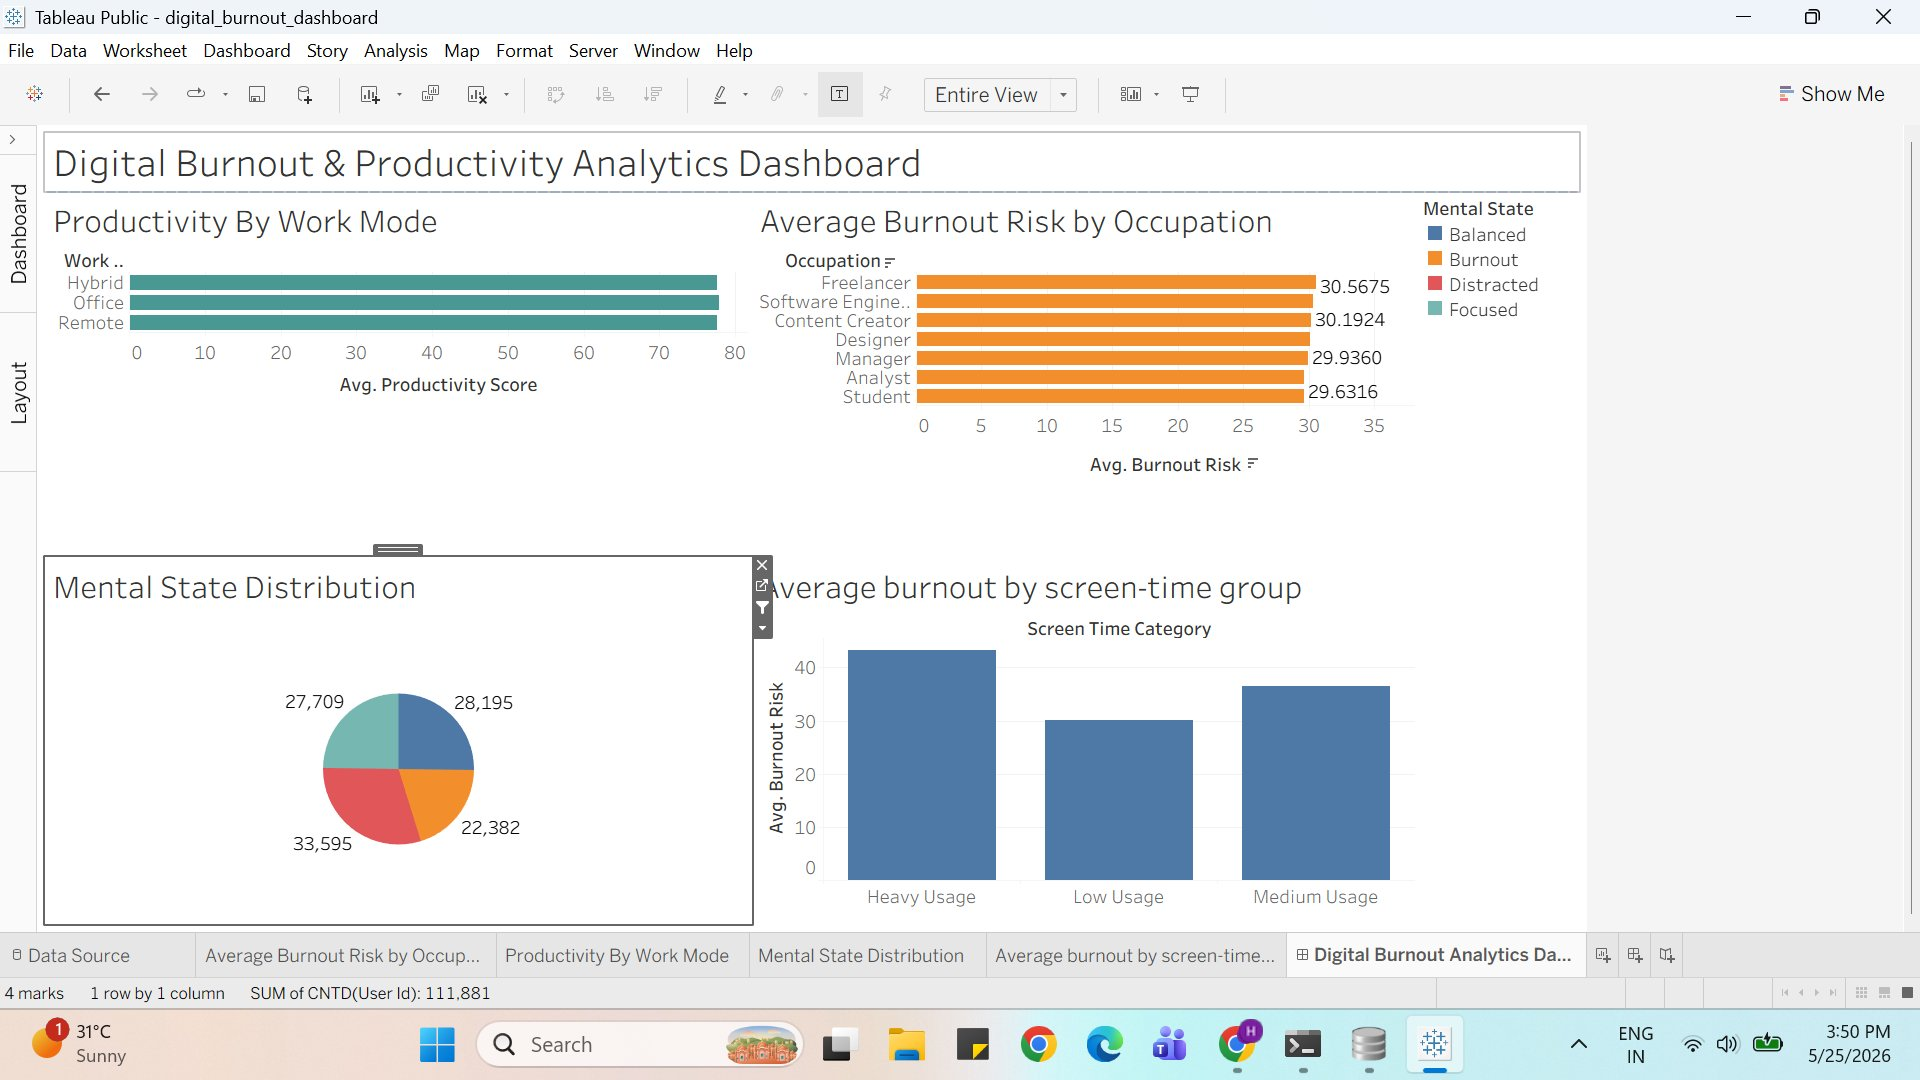

Layout of this report page (visuals, bound fields, positions):
{"tool":"tableau","page":{"name":"Digital Burnout Analytics Dashboard","canvas":[1000,1000],"units":"permille","ordinal":0},"visuals":[{"type":"title","box":[5.2,9.9,886.5,71.9]},{"type":"legend","title":"Mental State Distribution","param":"[federated.0yhz3xa09osp6c140vxkk1f0od8s].[none:mental_state:nk]","box":[891.6,9.9,103.2,166]},{"type":"worksheet","title":"Productivity By Work Mode","mark":"Automatic","rows":["work_mode"],"cols":["productivity_score"],"box":[5.2,81.8,456,454.1]},{"type":"worksheet","title":"Average Burnout Risk by Occupation","mark":"Automatic","rows":["occupation"],"cols":["burnout_risk"],"box":[461.2,81.8,430.4,454.1]},{"type":"worksheet","title":"Mental State Distribution","mark":"Pie","box":[5.2,535.9,456,454.2]},{"type":"worksheet","title":"Average burnout by screen-time group","mark":"Automatic","rows":["burnout_risk"],"cols":["screen_time_category"],"box":[461.2,535.9,430.4,454.2]}]}

Visuals, with their boxes on the dashboard's canvas, which has no fixed pixel size, in thousandths of its width and height (x1, y1, x2, y2). These are canvas units, not pixel positions in the 1920x1080 screenshot, which may show the page scaled, cropped or inside an application window:
title: x1=5 y1=10 x2=892 y2=82
"Mental State Distribution" legend: x1=892 y1=10 x2=995 y2=176
"Productivity By Work Mode" worksheet: x1=5 y1=82 x2=461 y2=536
"Average Burnout Risk by Occupation" worksheet: x1=461 y1=82 x2=892 y2=536
"Mental State Distribution" worksheet (Pie marks): x1=5 y1=536 x2=461 y2=990
"Average burnout by screen-time group" worksheet: x1=461 y1=536 x2=892 y2=990
